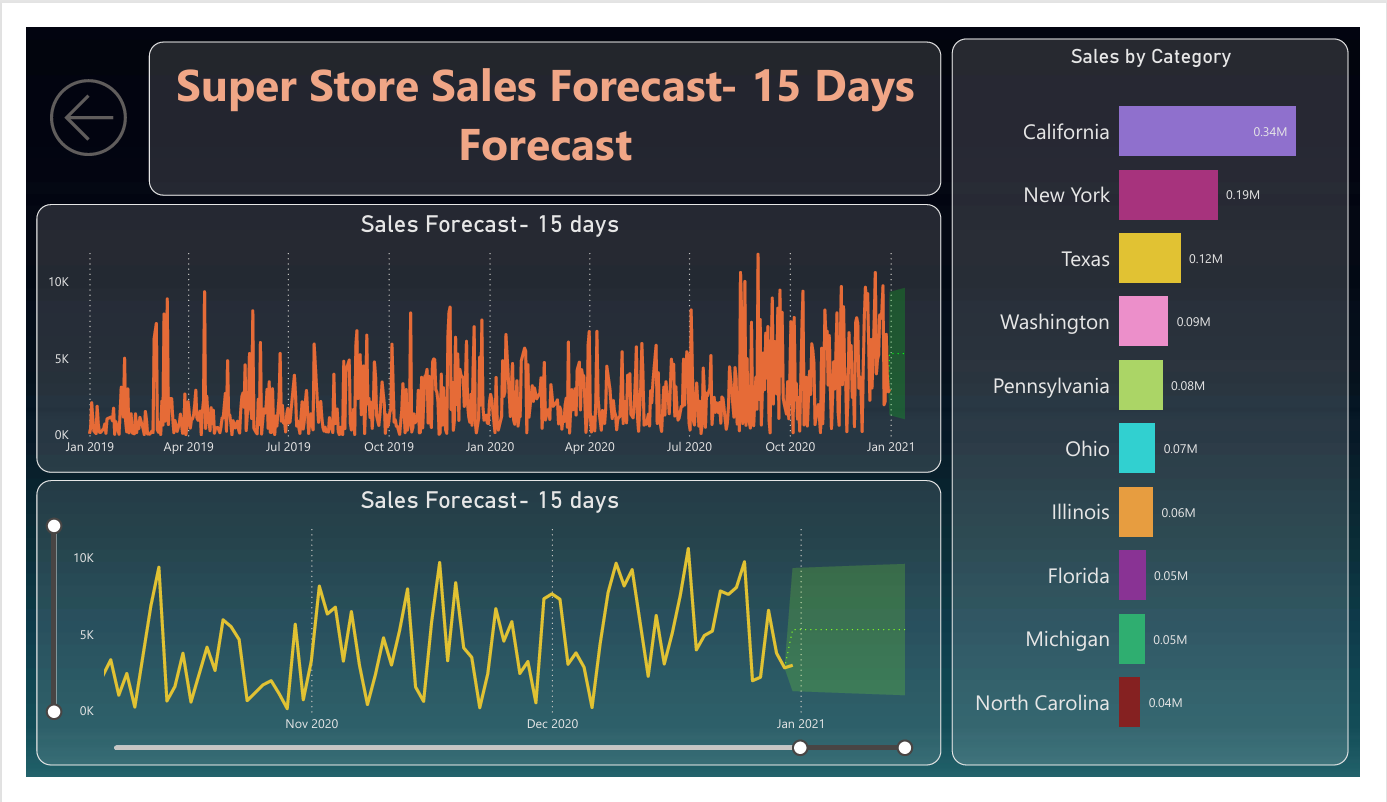

The dashboard page shown, as its layout file describes it:
{"tool":"powerbi","page":{"name":"Page 2","canvas":[1280,720],"ordinal":1},"visuals":[{"type":"lineChart","title":"Sales Forecast- 15 days","fields":{"Category":["SuperStore_Sales_Dataset csv.Order Date"],"Y":["Sum(SuperStore_Sales_Dataset csv.Sales)"]},"box":[9.4,168.8,868.8,257.8],"z":0},{"type":"lineChart","title":"Sales Forecast- 15 days","fields":{"Category":["SuperStore_Sales_Dataset csv.Order Date"],"Y":["Sum(SuperStore_Sales_Dataset csv.Sales)"]},"box":[9.4,434.4,868.8,273.4],"z":1000},{"type":"textbox","box":[117.2,12.5,760.9,148.4],"z":2000},{"type":"clusteredBarChart","title":"Sales by Category","fields":{"Category":["SuperStore_Sales_Dataset csv.State"],"Y":["Sum(SuperStore_Sales_Dataset csv.Sales)"]},"box":[888.4,9.6,381,698.6],"z":3000},{"type":"actionButton","box":[12.5,23.4,92.2,125],"z":3001}]}

Visuals, with their boxes in screenshot pixels (x1, y1, x2, y2), scaled from the page's 1280x720 canvas onto the 1387x802 screenshot:
"Sales Forecast- 15 days" lineChart: (x1=10, y1=188, x2=952, y2=475)
"Sales Forecast- 15 days" lineChart: (x1=10, y1=484, x2=952, y2=788)
textbox: (x1=127, y1=14, x2=952, y2=179)
"Sales by Category" clusteredBarChart: (x1=963, y1=11, x2=1376, y2=789)
actionButton: (x1=14, y1=26, x2=113, y2=165)
